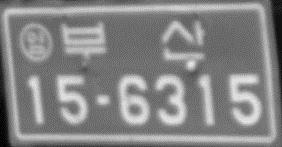-: (93, 91, 112, 108)
1: (25, 72, 48, 127), (196, 73, 219, 127)
3: (153, 72, 188, 127)
5: (227, 72, 264, 127), (54, 72, 91, 126)
6: (117, 71, 152, 127)
부산_D: (58, 19, 208, 62)
영: (18, 22, 55, 63)
